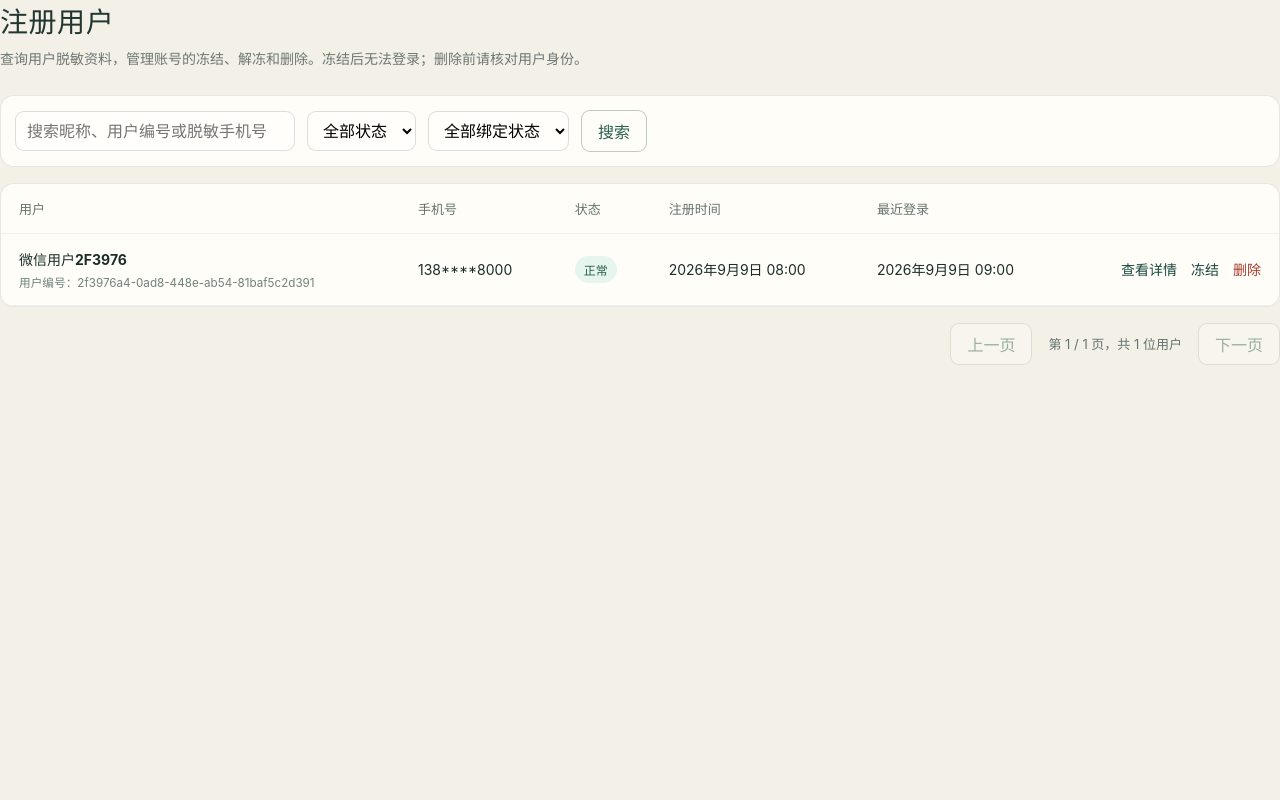
Test: UsersPage › requires confirmation for freezing, then supports unfreezing with the latest version
Check: the text "微信用户2F3976" is shown, box [19,251,127,268]
Click the button "冻结": (1205, 269) [1191,252,1219,286]
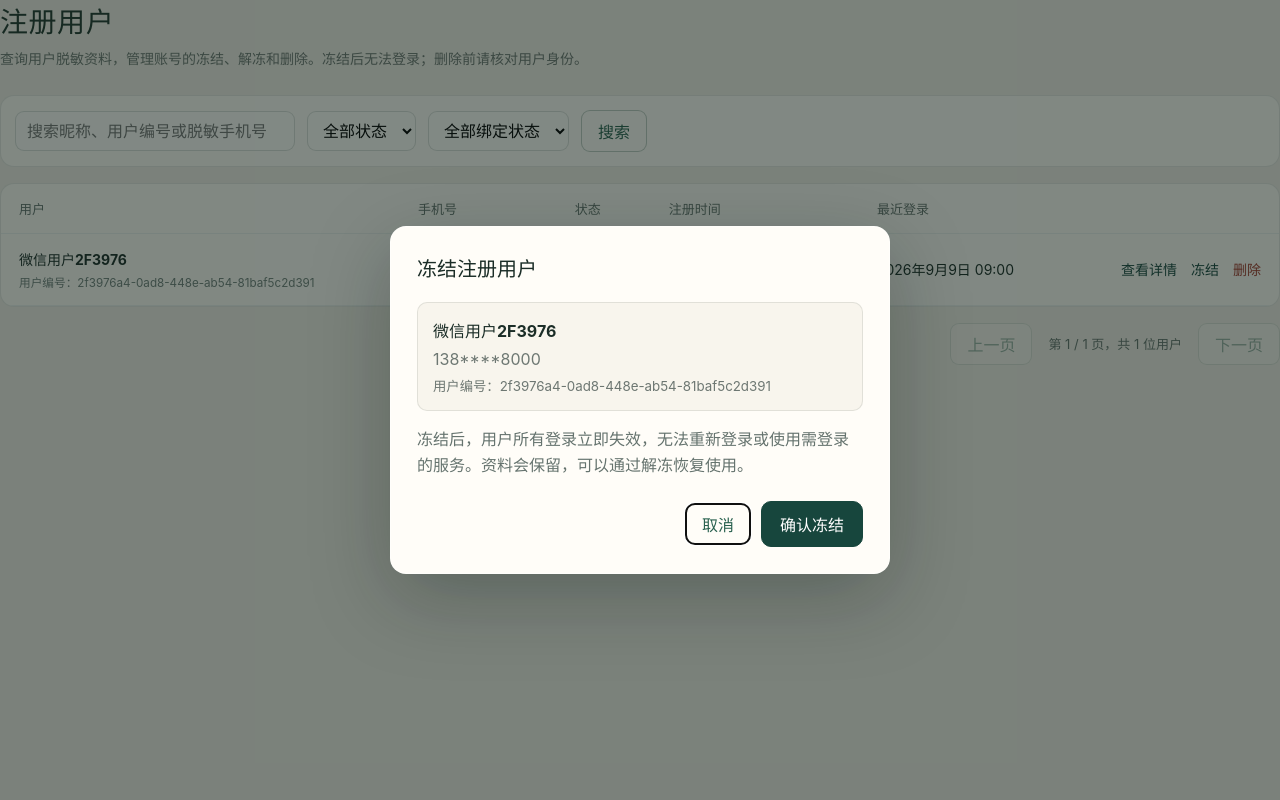
Check: the dialog shows "所有登录立即失效", box [417,429,849,475]
Click the button "取消": (718, 524) [685,503,751,545]
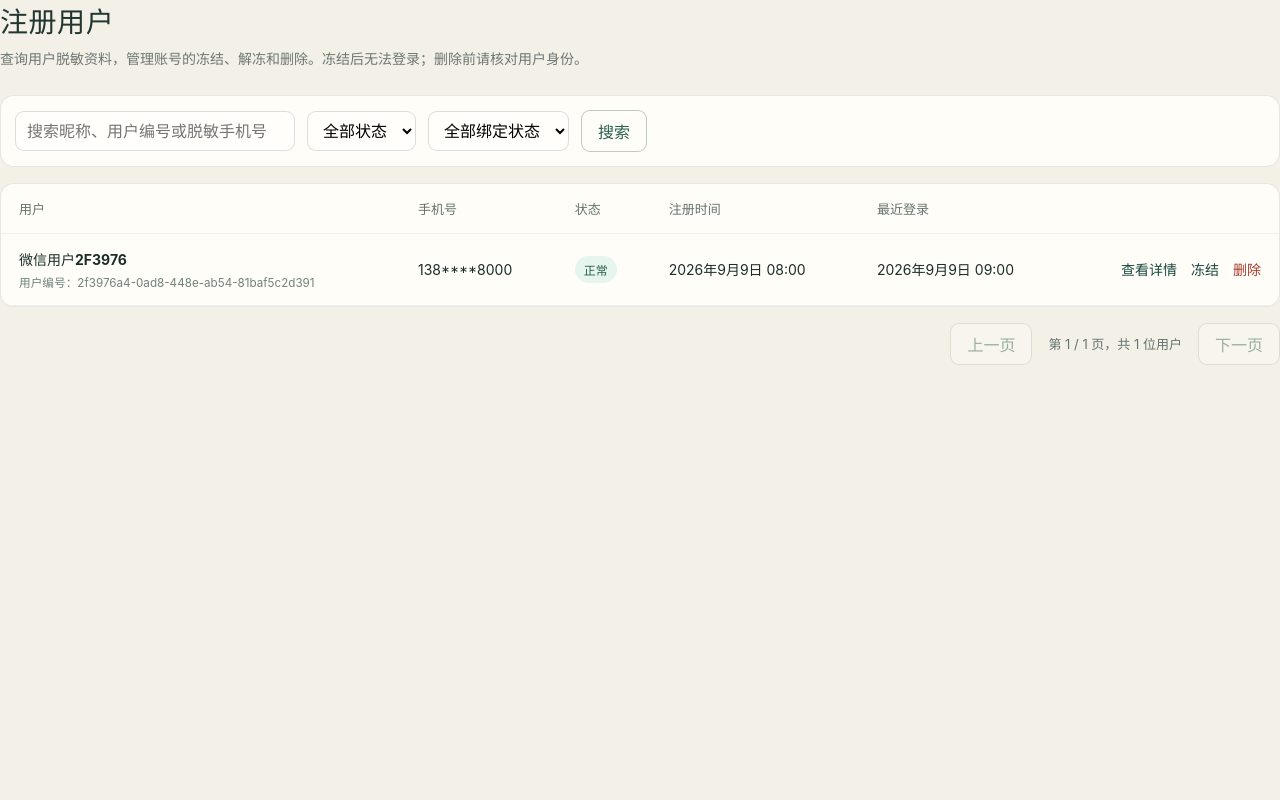
Check: the dialog is gone
Click the button "冻结": (1205, 269) [1191,252,1219,286]
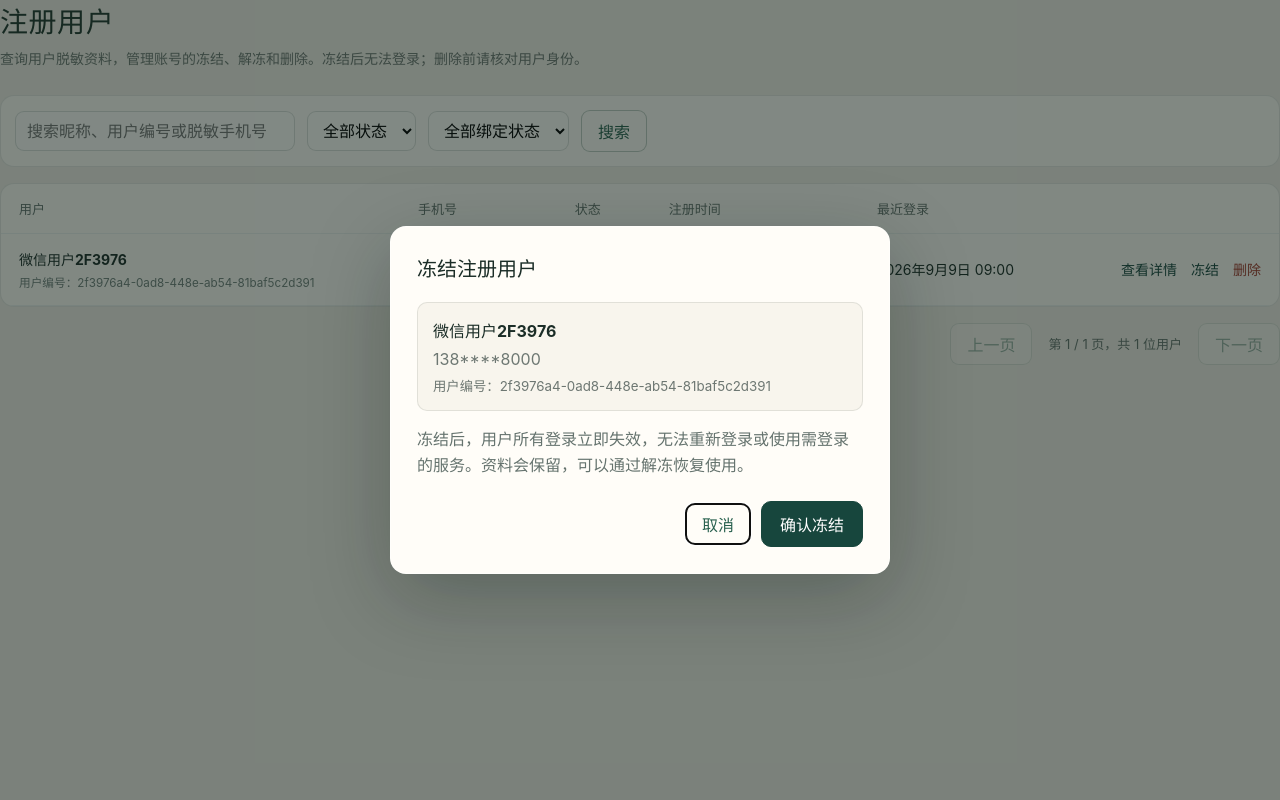
Click the button "确认冻结": (812, 524) [761,501,863,547]
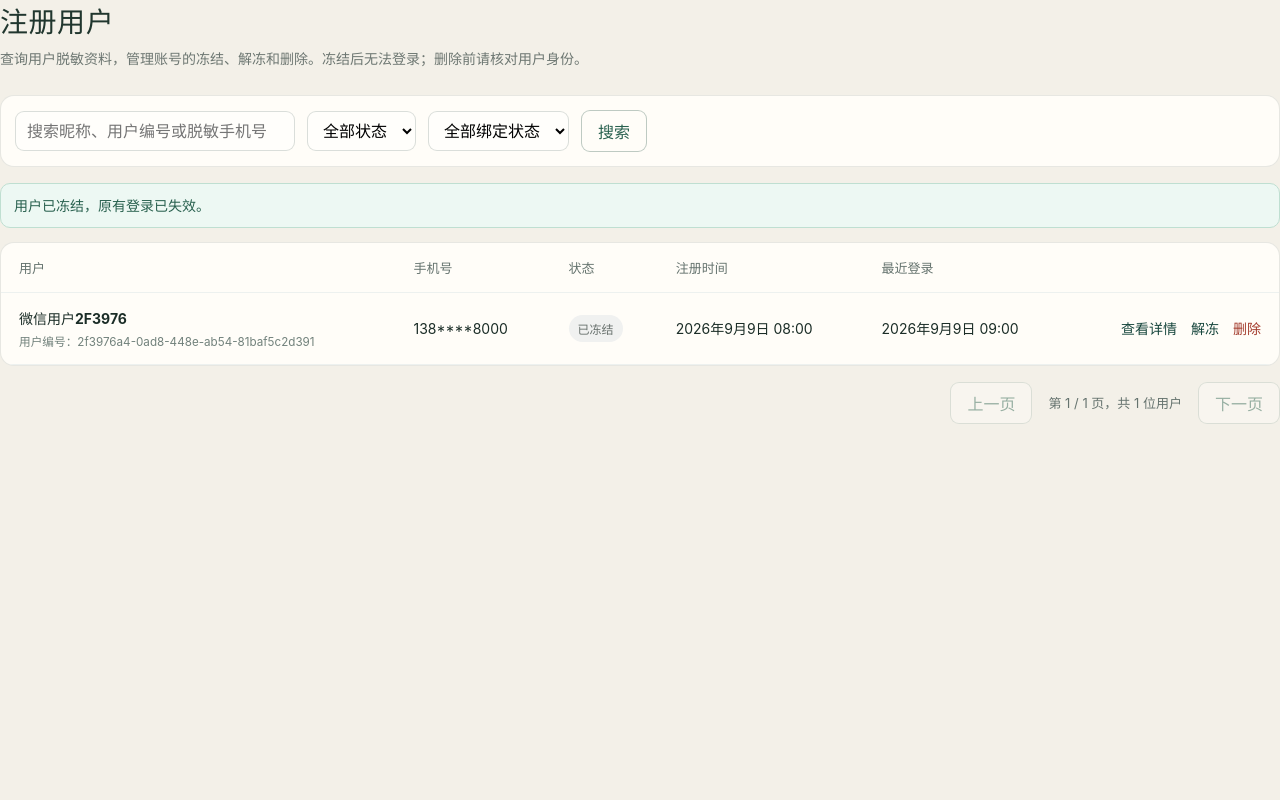
Check: the button "解冻" is shown
Check: the message shows "用户已冻结", box [14,197,210,214]
Click the button "解冻": (1205, 328) [1191,311,1219,345]
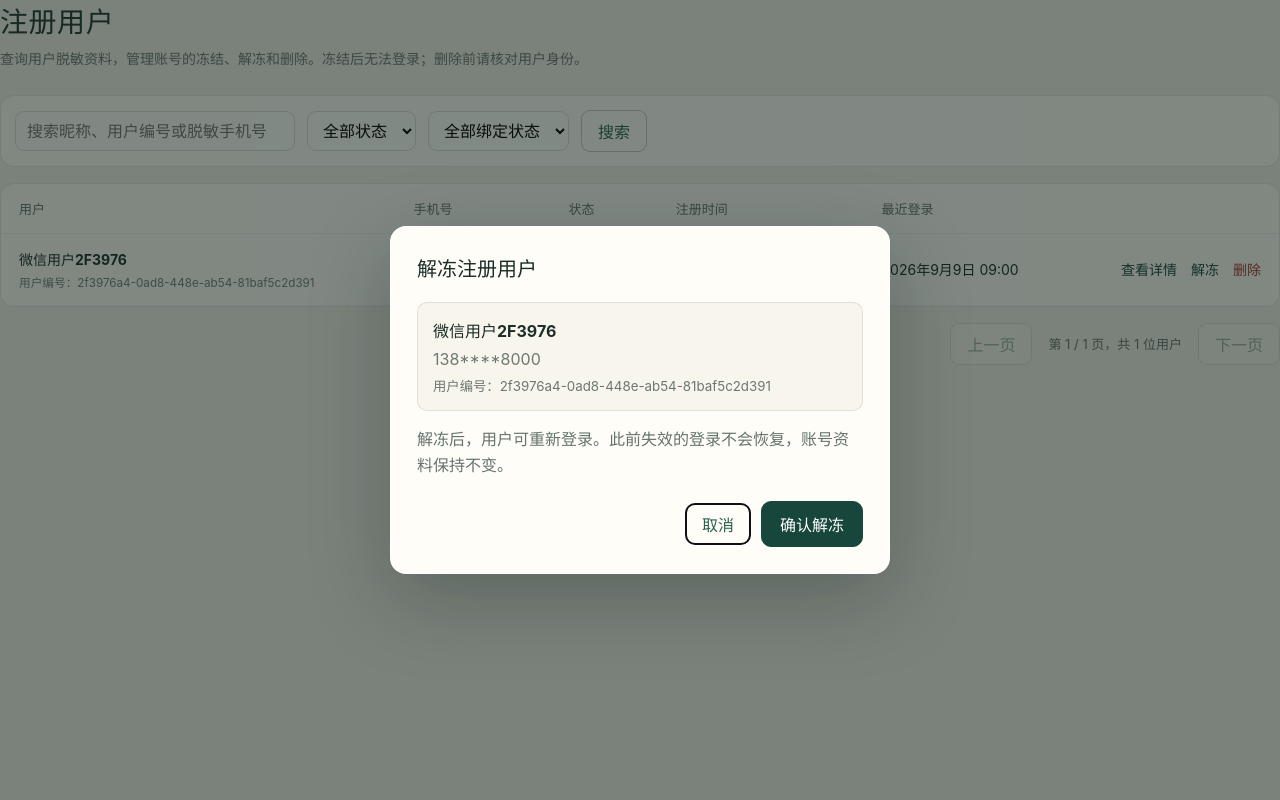
Click the button "确认解冻": (812, 524) [761,501,863,547]
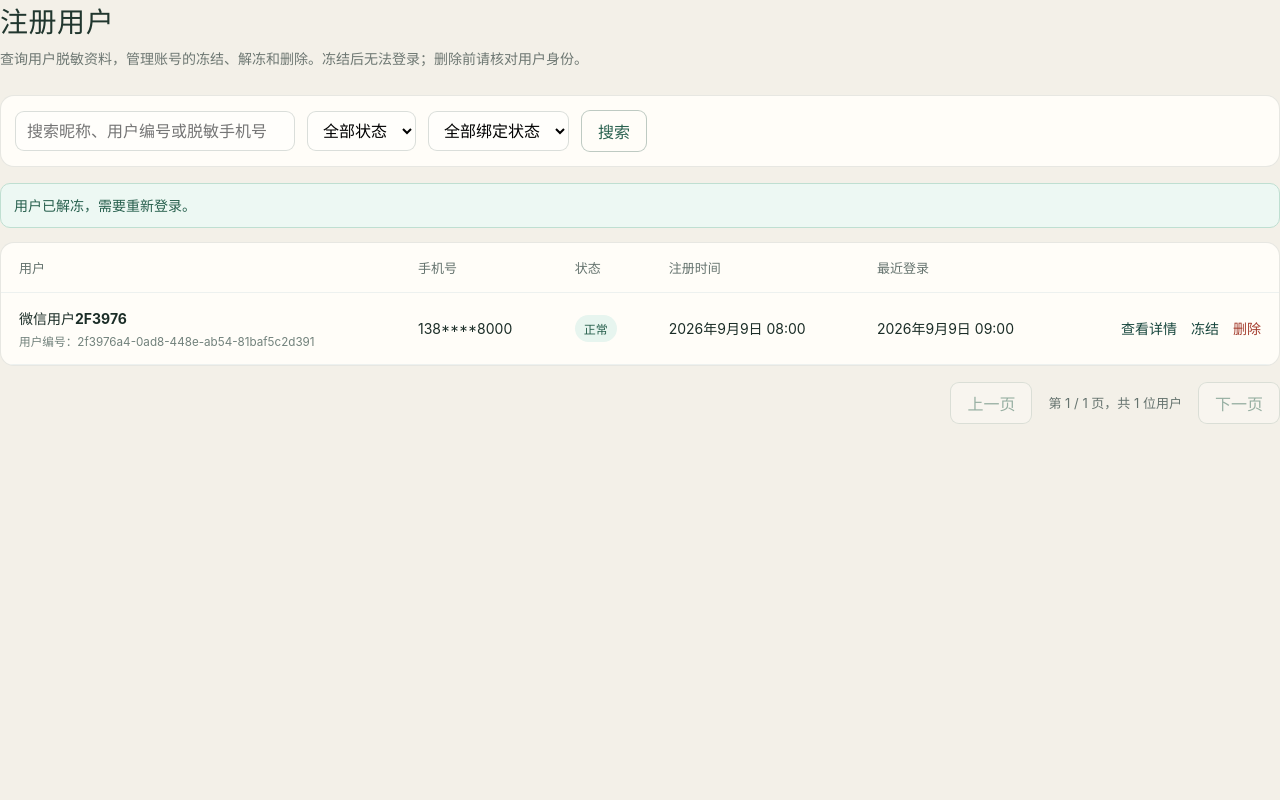
Check: the button "冻结" is shown, box [1191,311,1219,345]
